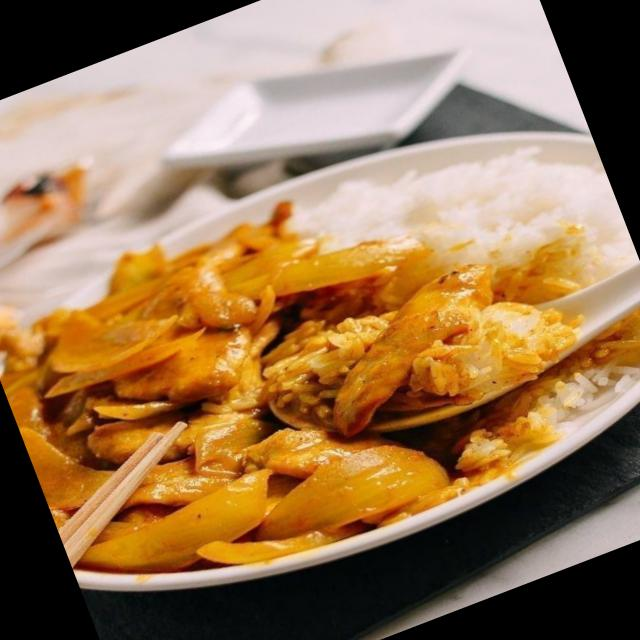chicken: (0, 143, 546, 635)
